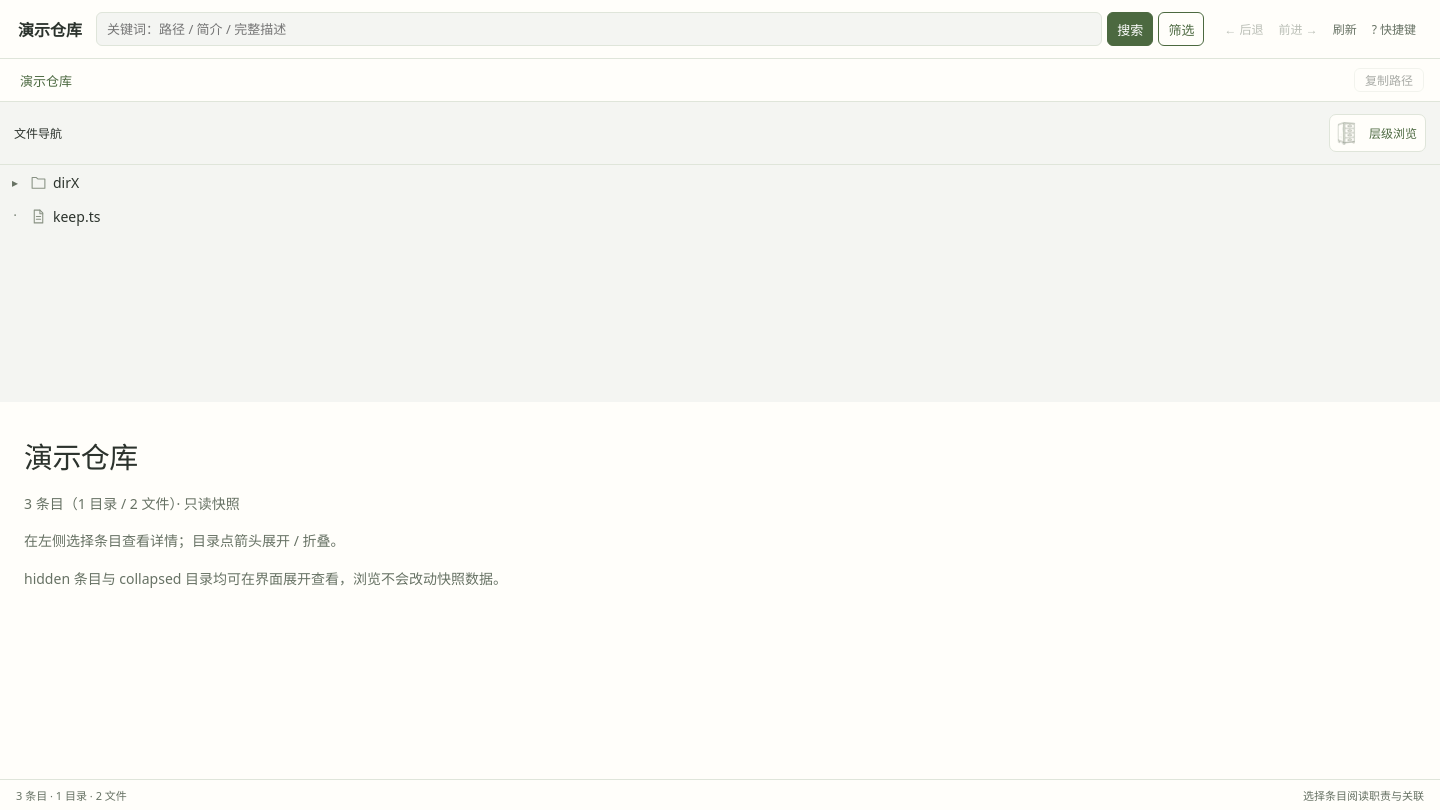
Scenario: 世代号混用窗口：旧世代响应按 generation 丢弃 › 刷新期间展开的目录换代后保留展开，晚到旧世代 children 不写回缓存
Expected: the text "dirX" is shown, [53,172,79,192]
刷新在途（POST 挂起）→ 用户展开 dirX：请求发出时服务端仍是旧快照（gen1）
Click the button "刷新" at (1345, 29), box [1327,14,1363,44]
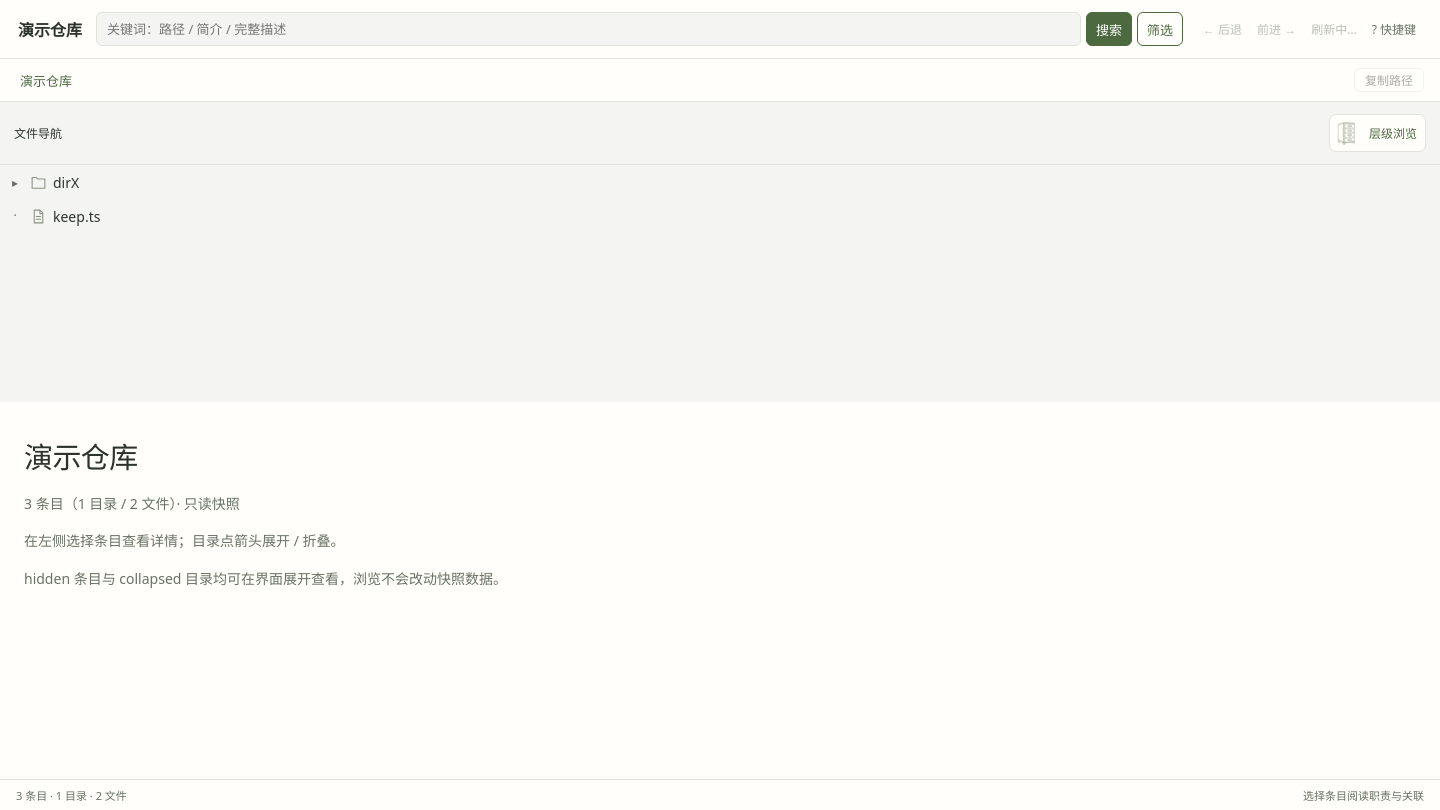
Click the button named "展开 dirX" at (15, 182), box [6,174,24,190]
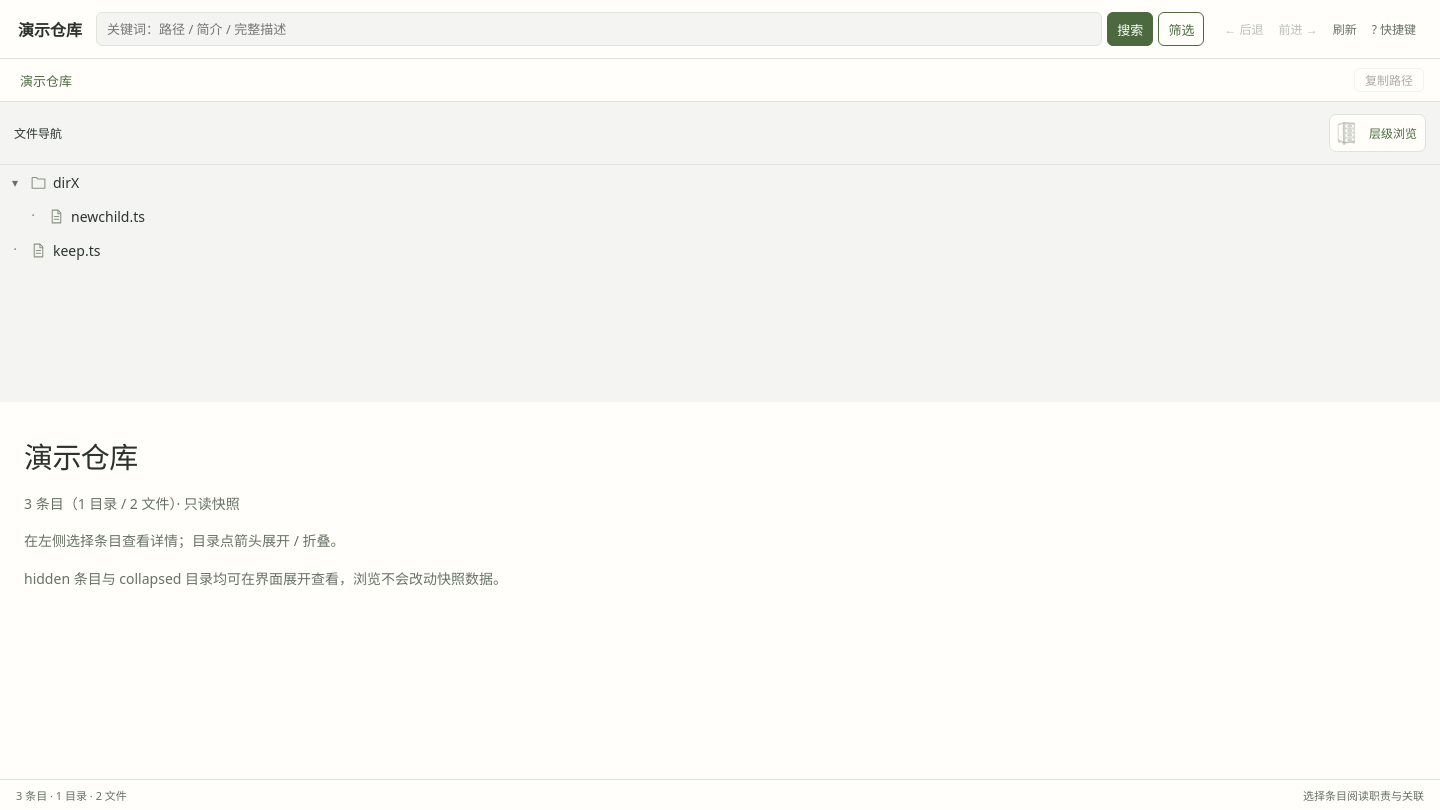
Expected: the button "刷新" is shown, [1327,14,1363,44]
Expected: the list item "· newchild.ts" is shown, [24,206,145,236]
